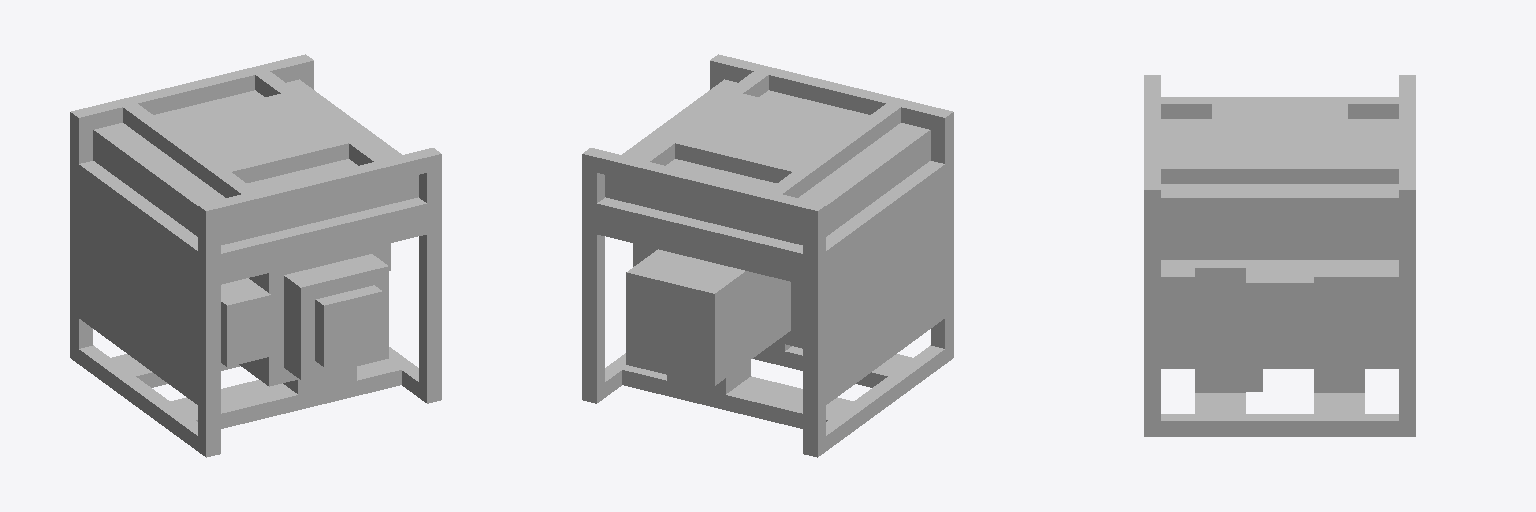
The model's file is generator.obj.
3 renders of one model, left to right at view 1: azimuth 30°, elevation 25°; view 2: azimuth 150°, elevation 25°; view 3: azimuth 270°, elevation 25°, orthographic.
Visible parts, largest first — view 1: Gas-Generator; view 2: Gas-Generator; view 3: Gas-Generator.
Part boxes in pixels (x1,y1,x2,y2): Gas-Generator: (70, 54, 441, 457); Gas-Generator: (582, 54, 953, 457); Gas-Generator: (1144, 75, 1415, 436).
Size of the model in its own units: 1 by 1 by 1.